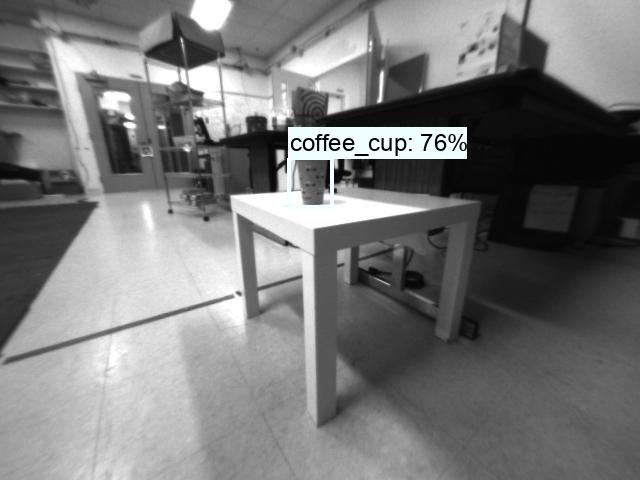coffee_cup: (293, 154, 331, 206)
